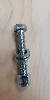FinishedAssembly: (11, 21, 36, 89)
